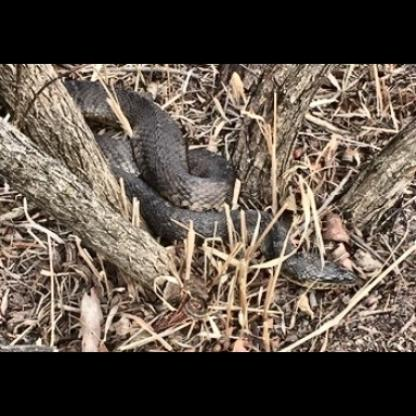Snake: (56, 58, 365, 281)
